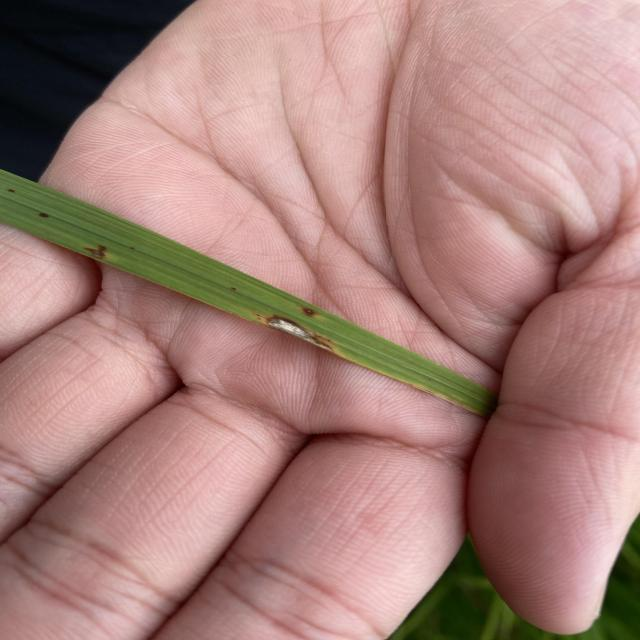Dao on: (255, 313, 338, 355), (85, 245, 106, 259), (300, 307, 316, 317), (283, 323, 293, 332)
